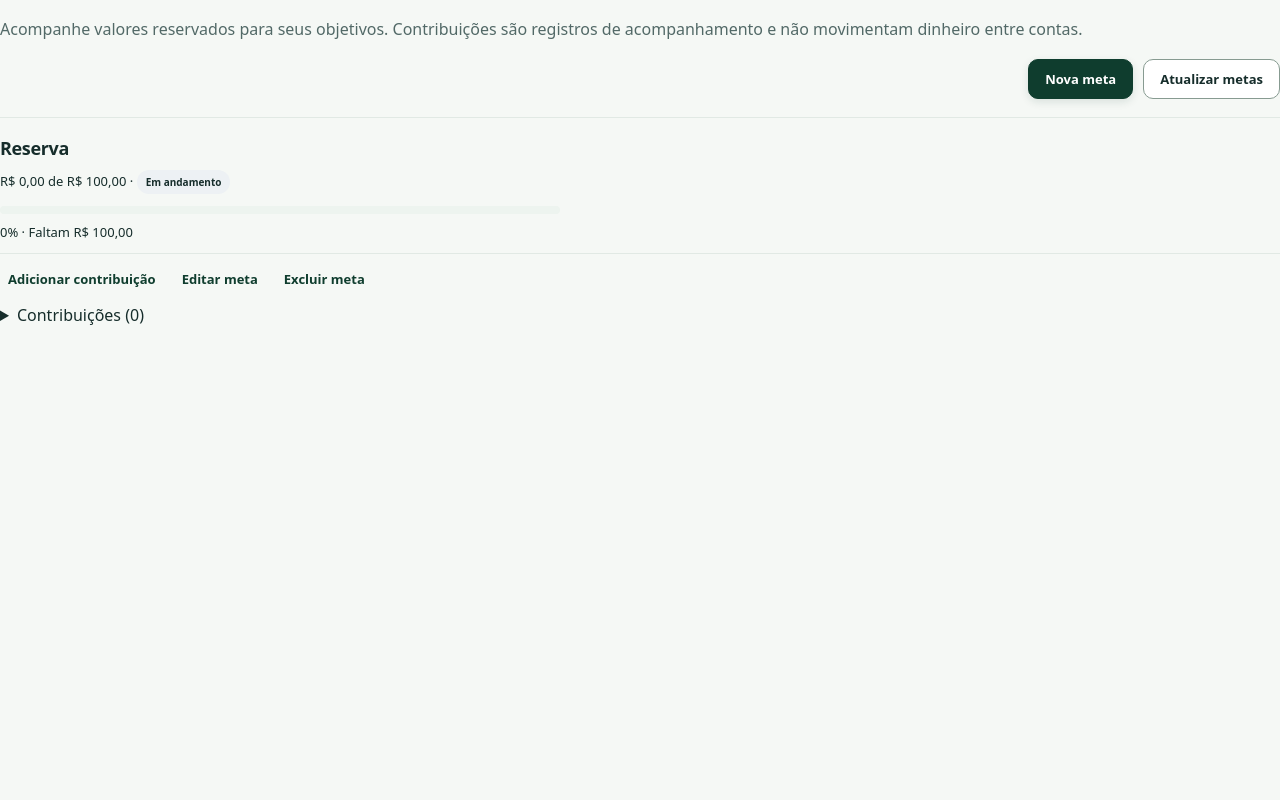
Test case: creates goals, retains form on failure, and confirms deletion
Check: the heading "Reserva" is shown, box [0, 136, 69, 160]
Click the button "Nova meta".
click(1081, 79)  # box [1028, 59, 1133, 99]
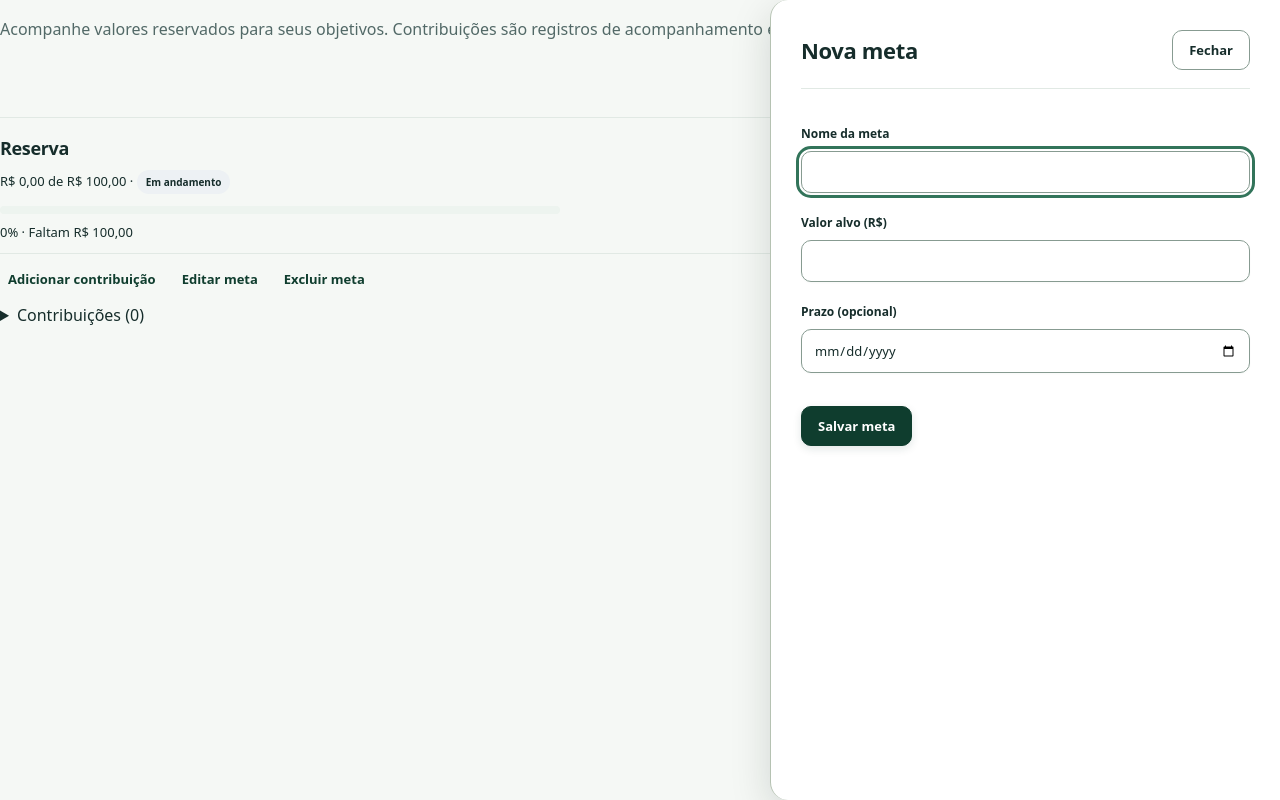
Type "Viagem" into the field labelled "Nome da meta".
click(1026, 172); type("Viagem")  # box [801, 151, 1250, 193]
Type "1.234,56" into the field labelled "Valor alvo (R$)".
click(1026, 261); type("1.234,56")  # box [801, 240, 1250, 282]
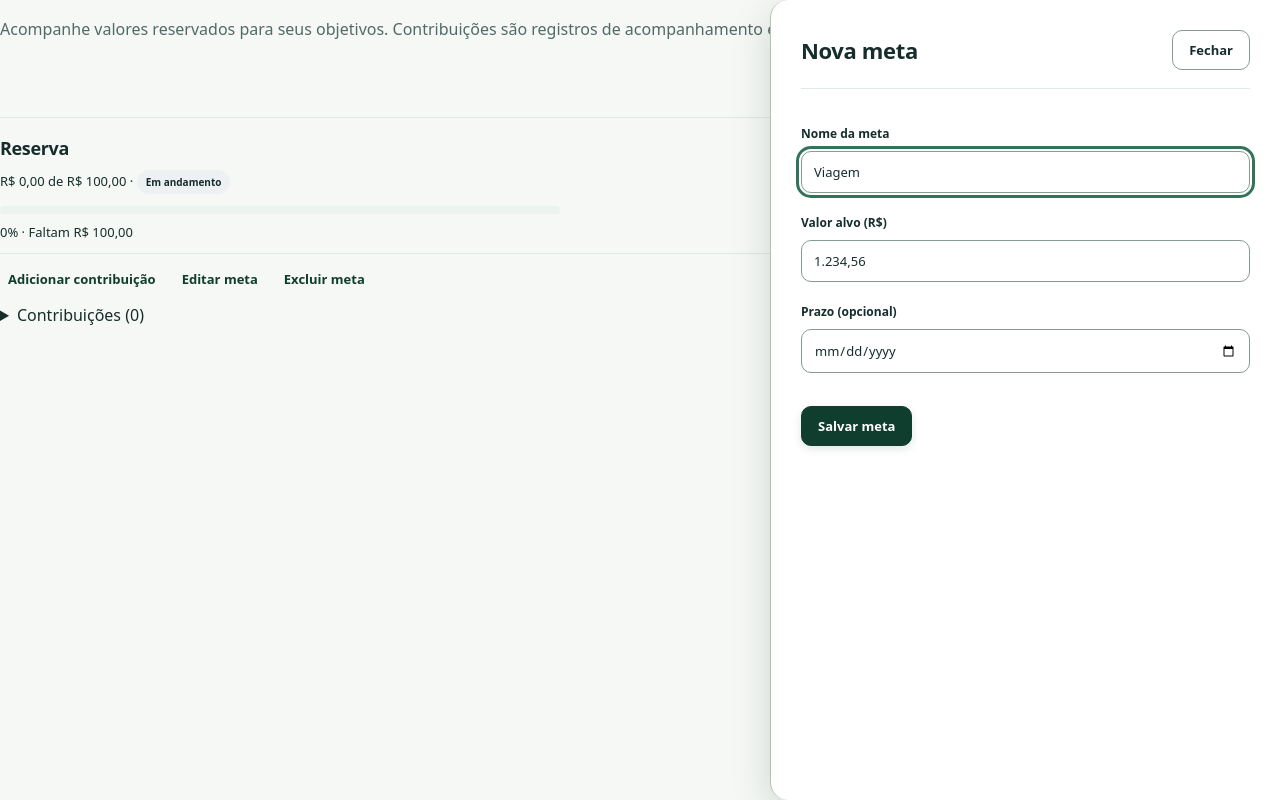
Click the button "Salvar meta".
click(857, 426)  # box [801, 406, 912, 446]
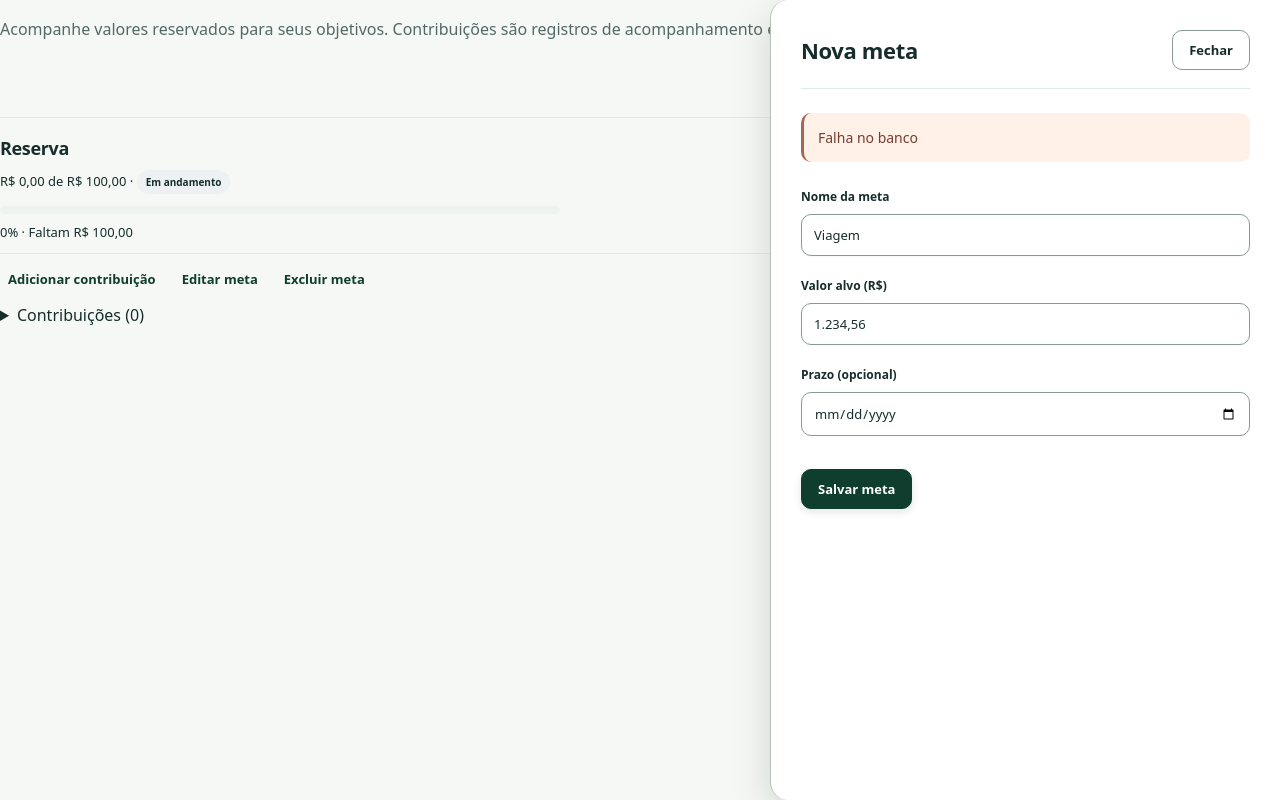
Check: the text "Falha no banco" is shown, box [801, 113, 1250, 162]
Click the button "Salvar meta".
click(857, 489)  # box [801, 469, 912, 509]
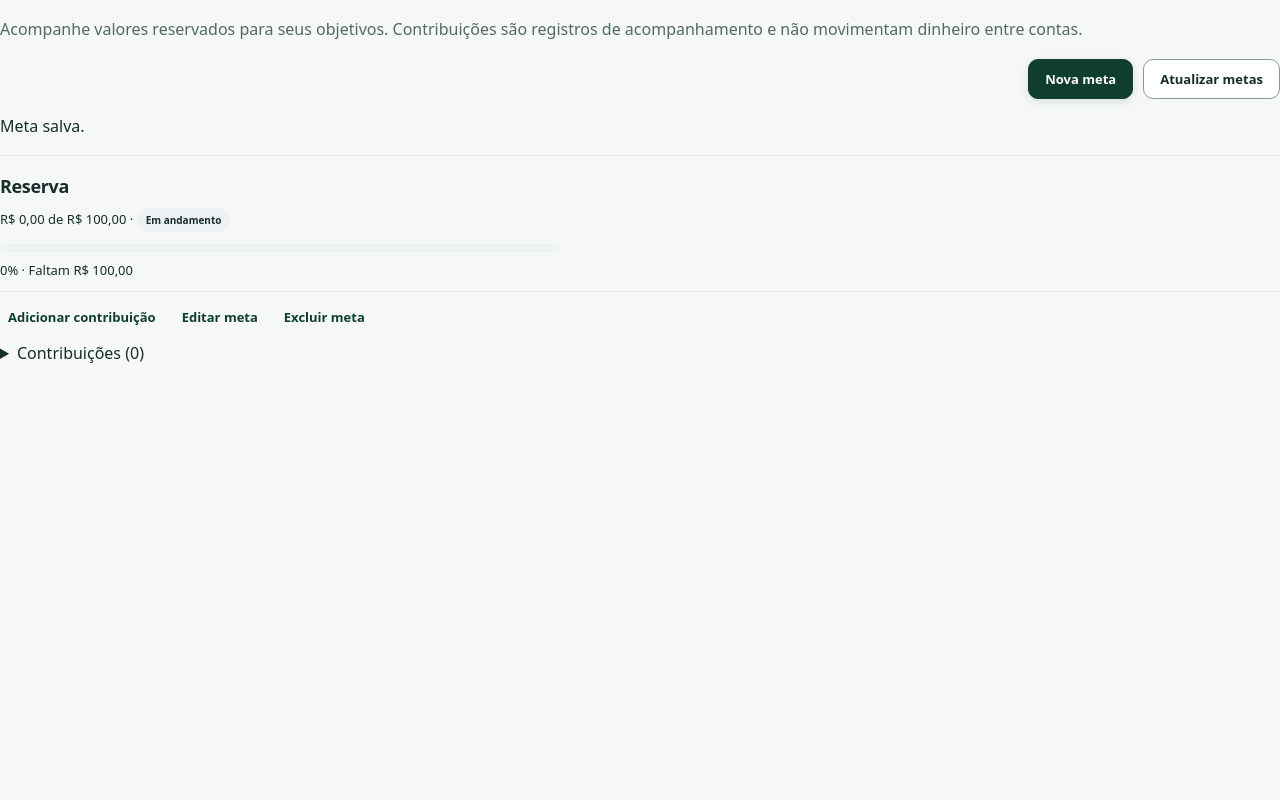
Check: the dialog is gone
Click the button "Excluir meta".
click(324, 317)  # box [276, 302, 373, 332]
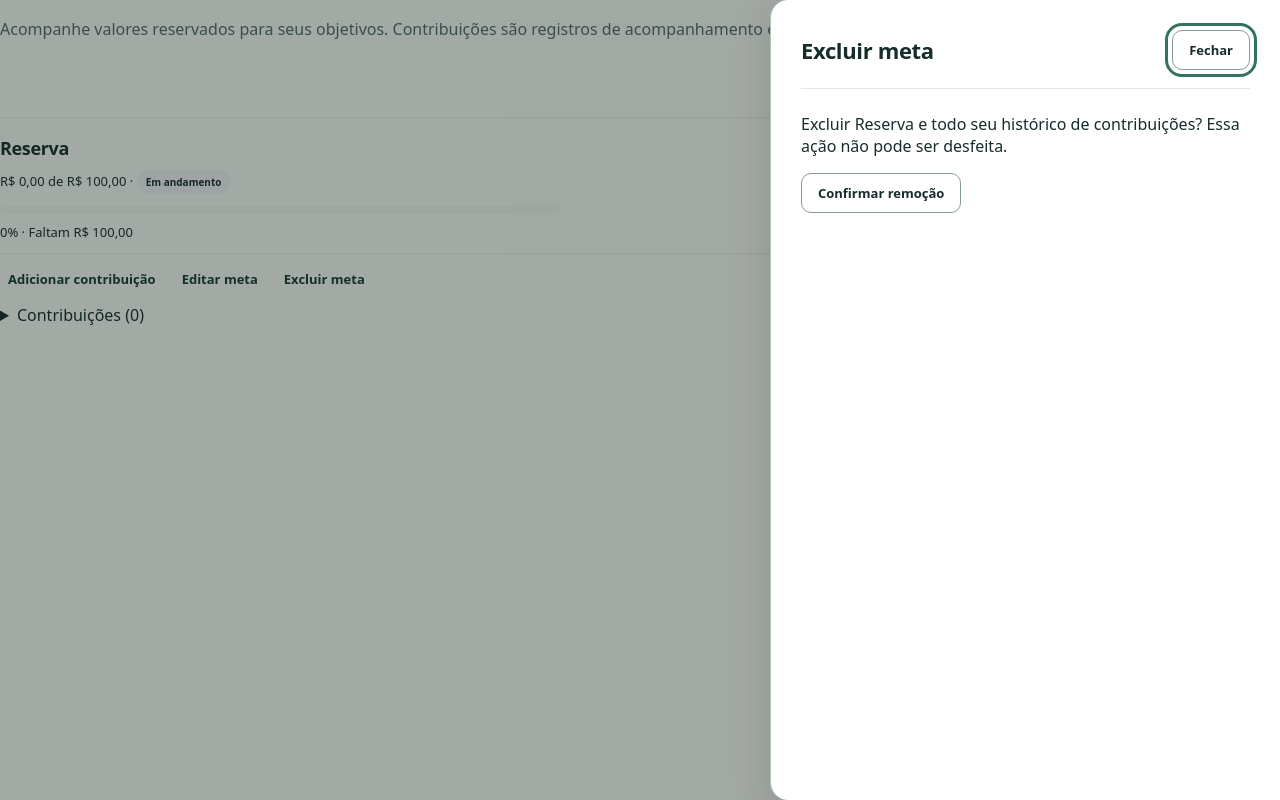
Click the button "Confirmar remoção".
click(881, 193)  # box [801, 173, 961, 213]
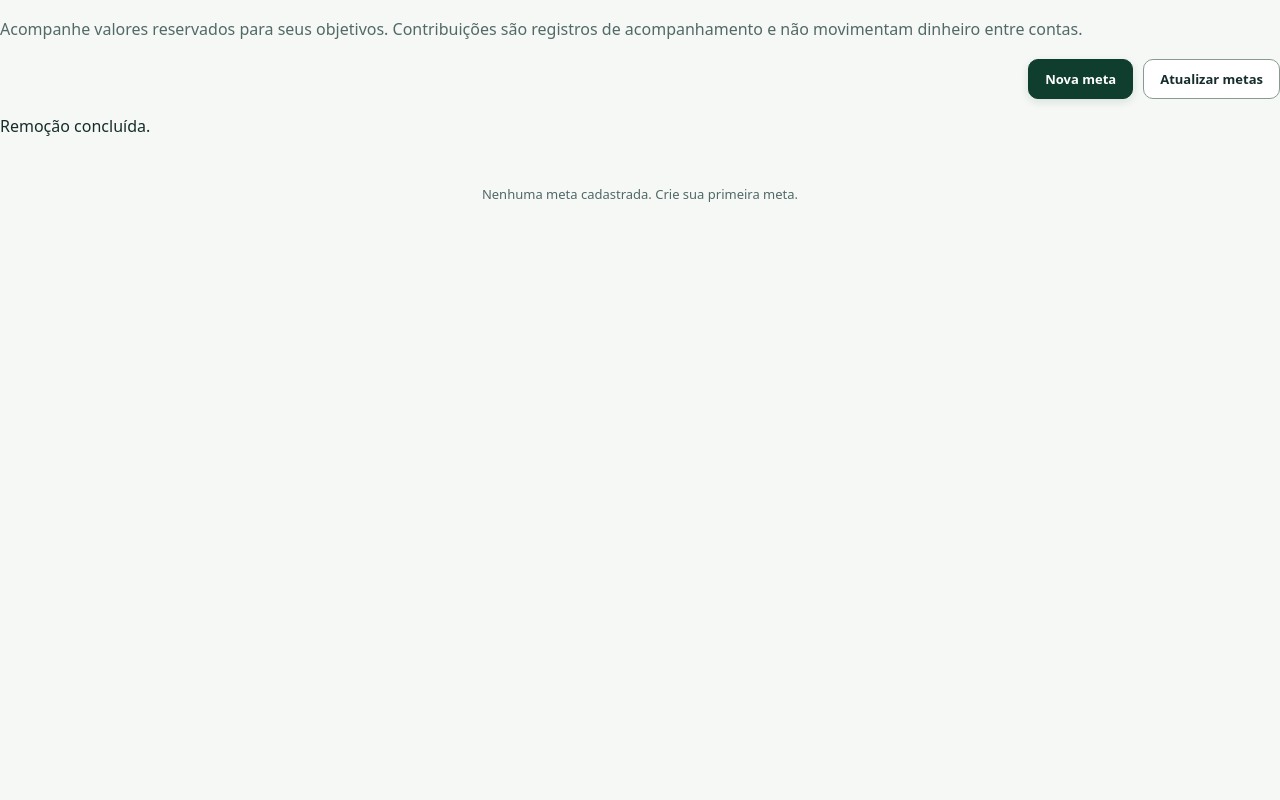
Check: the text "Nenhuma meta cadastrada. Crie sua primeira meta." is shown, box [482, 185, 798, 203]
